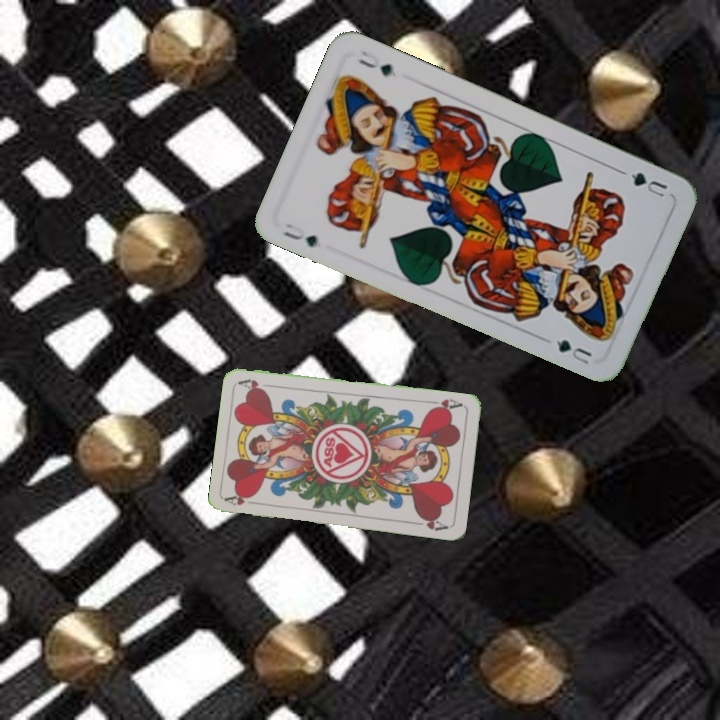GU: (626, 168, 670, 200), (279, 219, 321, 250)
HA: (425, 394, 465, 414), (222, 489, 263, 508)
